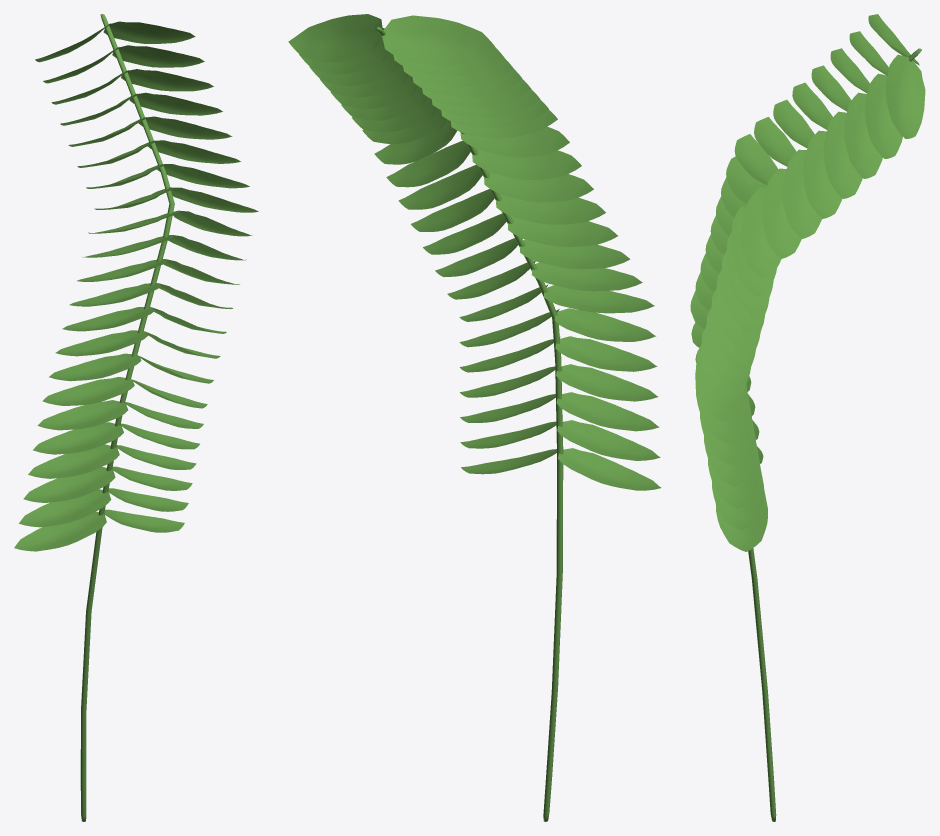
The model's file is sword_fern_variant1.fbx.
3 views of the same model, side by side, from view 1: azimuth 30°, elevation 25°; view 2: azimuth 150°, elevation 25°; view 3: azimuth 270°, elevation 25° (orthographic). The views are drawn at different scales.
Parts seen in each view (by area): view 1: Plane.003, Plane.004, Curve; view 2: Plane.003, Plane.004, Curve; view 3: Plane.004, Plane.003, Curve.
Boxes of the visible parts, x1=… form: Plane.003: x1=14, y1=23, x2=180, y2=551; Plane.004: x1=103, y1=21, x2=258, y2=532; Curve: x1=80, y1=14, x2=174, y2=821; Plane.003: x1=382, y1=15, x2=661, y2=490; Plane.004: x1=288, y1=14, x2=560, y2=474; Curve: x1=375, y1=27, x2=563, y2=821; Plane.004: x1=695, y1=54, x2=925, y2=551; Plane.003: x1=690, y1=14, x2=919, y2=463; Curve: x1=748, y1=48, x2=921, y2=821.
Bounding box in the file's own units: 28.57 × 78.36 × 20.35.
